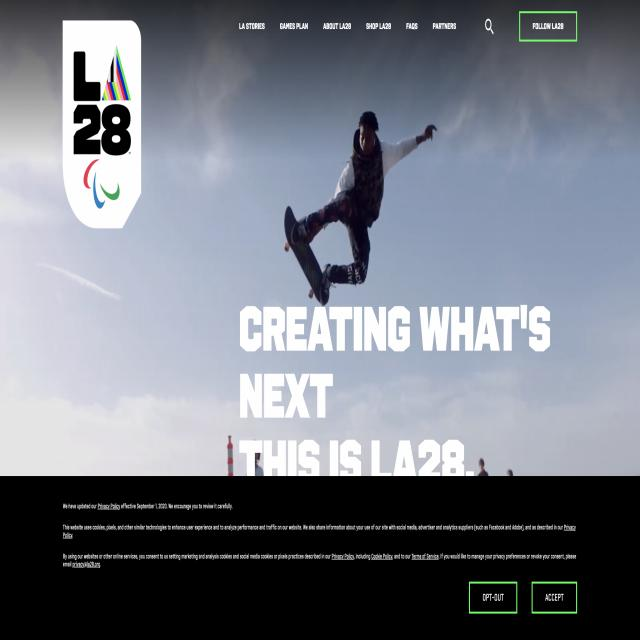Logo: (62, 23, 144, 229)
Navigation: (226, 1, 606, 55)
